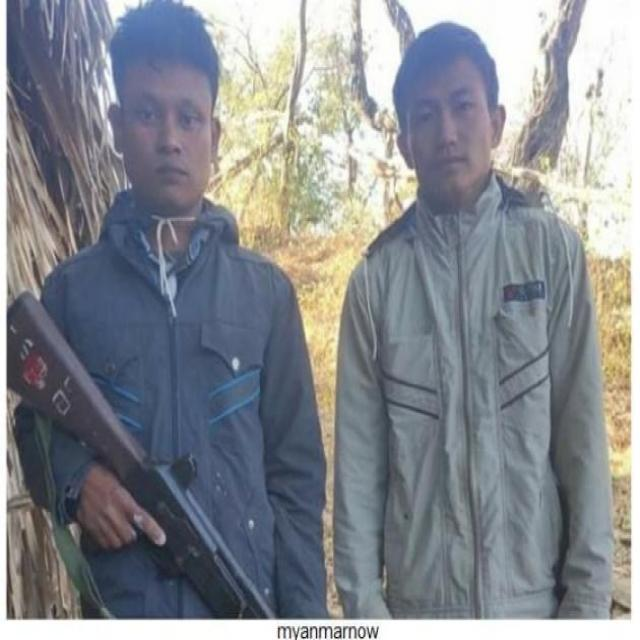gun: (4, 295, 284, 617)
